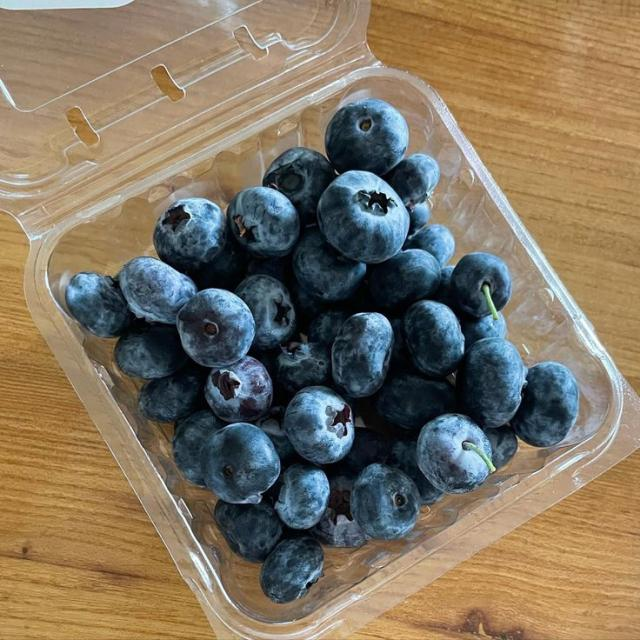blueberry: (318, 171, 409, 263), (456, 338, 526, 428), (201, 423, 279, 503), (326, 99, 408, 174), (417, 414, 494, 493), (178, 289, 255, 366), (511, 362, 579, 446), (263, 147, 335, 225), (284, 387, 354, 464), (294, 227, 366, 301), (154, 198, 226, 271), (119, 257, 197, 324), (351, 464, 420, 539), (332, 313, 393, 397), (227, 187, 299, 257), (404, 300, 464, 377), (235, 275, 296, 349), (205, 356, 273, 422), (376, 374, 455, 429), (66, 273, 133, 337), (214, 500, 282, 562), (311, 474, 368, 547), (260, 537, 323, 603), (369, 249, 440, 307), (114, 324, 187, 379), (452, 253, 512, 319), (138, 364, 206, 422), (173, 410, 224, 486), (387, 440, 443, 505), (275, 464, 329, 529), (385, 154, 439, 206), (192, 239, 246, 290), (277, 342, 330, 393), (338, 427, 389, 475), (255, 407, 295, 462), (405, 225, 455, 266), (290, 279, 326, 332), (308, 309, 351, 347), (460, 313, 506, 348), (484, 426, 518, 469), (342, 279, 379, 315), (389, 318, 414, 371), (247, 255, 291, 282), (248, 347, 280, 380), (433, 267, 456, 310), (407, 202, 431, 233)
